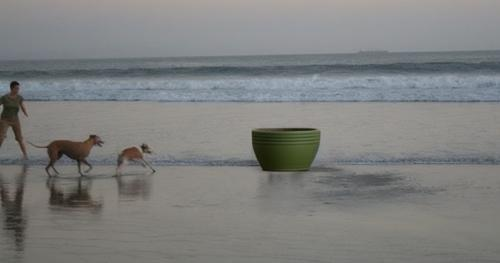dog: (26, 130, 101, 180), (110, 140, 159, 182)
person: (1, 82, 33, 170)
person/foot: (24, 152, 30, 160)
person/hand: (26, 114, 30, 119)
person/head: (10, 81, 20, 95)
pottedplant: (252, 128, 320, 171)
